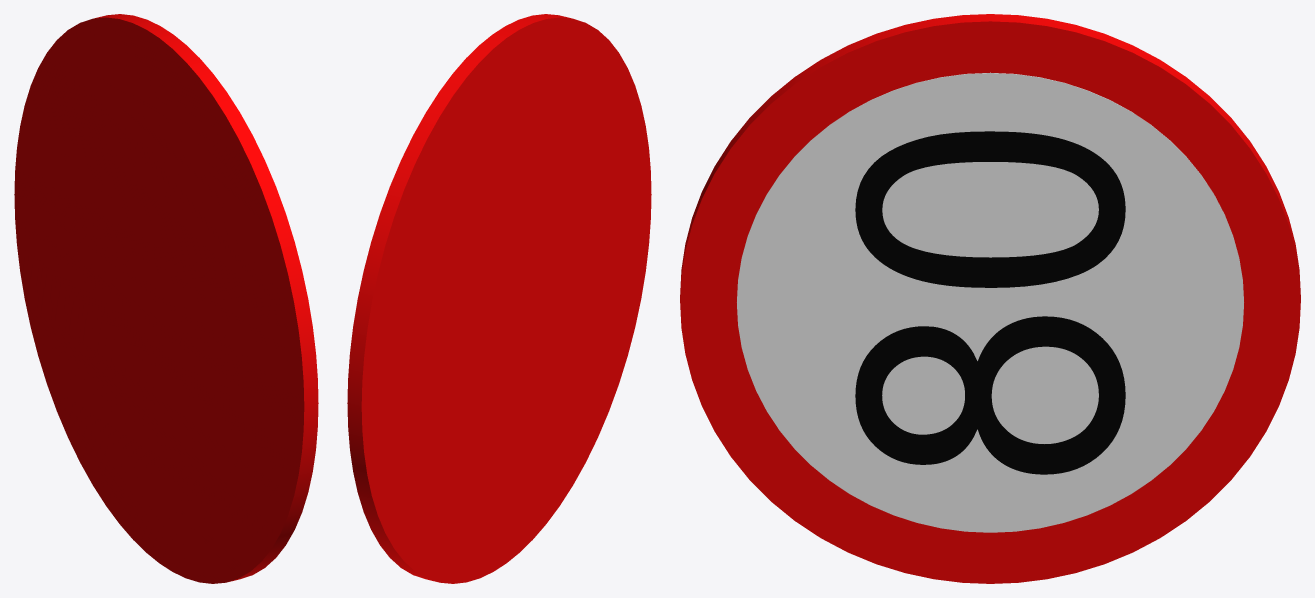
The picture shows the model from 3 angles, left to right: view 1: azimuth 30°, elevation 25°; view 2: azimuth 150°, elevation 25°; view 3: azimuth 270°, elevation 25°; orthographic projection. The views are drawn at different scales.
Visible parts, largest first — view 1: 限速80; view 2: 限速80; view 3: 限速80.
Boxes of the visible parts, x1=… form: 限速80: x1=14, y1=14, x2=318, y2=583; 限速80: x1=347, y1=14, x2=651, y2=583; 限速80: x1=680, y1=14, x2=1300, y2=583.
Bounding box in the file's own units: 0.023 × 0.7737 × 0.7737.
